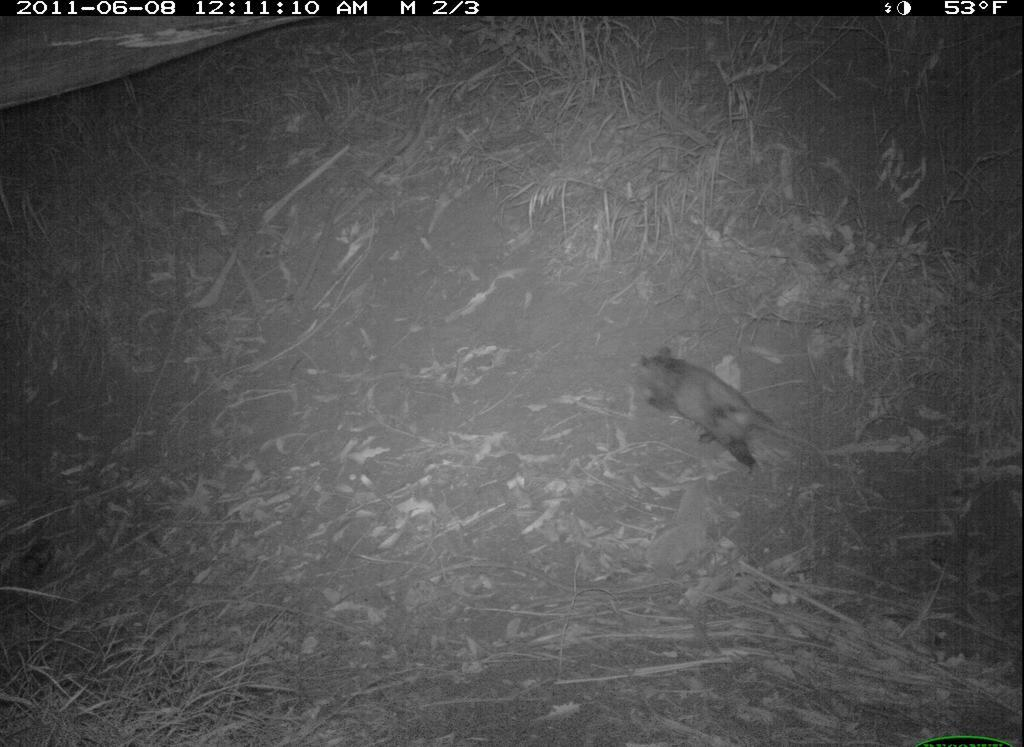opossum: (629, 344, 827, 474)
